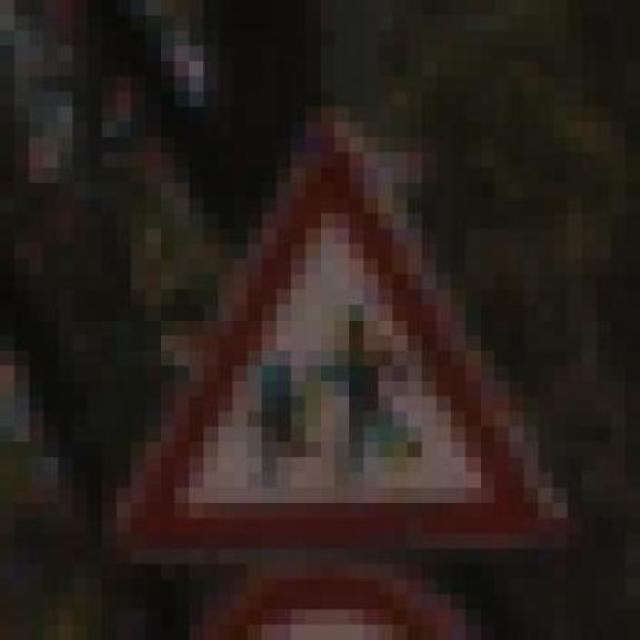Beware of children: (58, 122, 582, 580)
